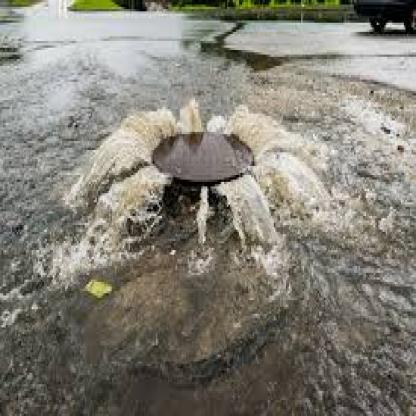drainage overflow-repair-: (75, 67, 327, 336)
